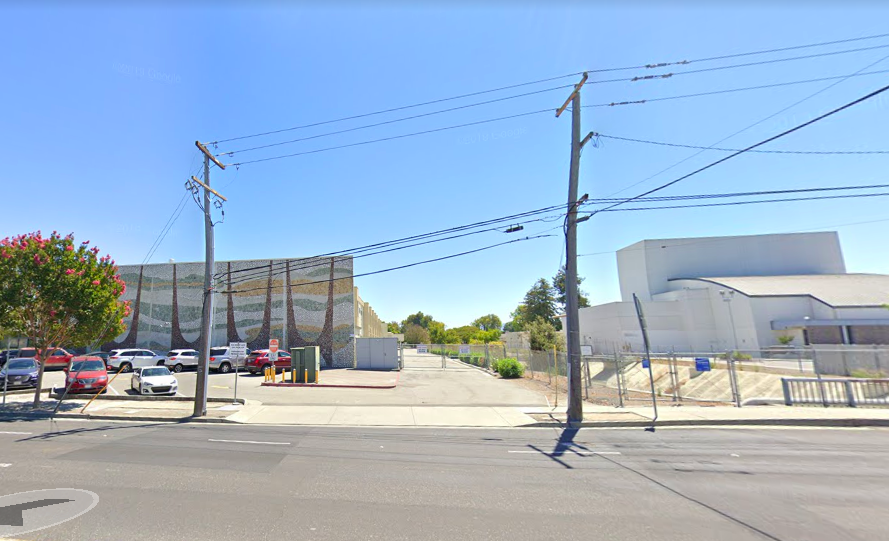utility_pole: (547, 61, 607, 167), (181, 131, 236, 231)
